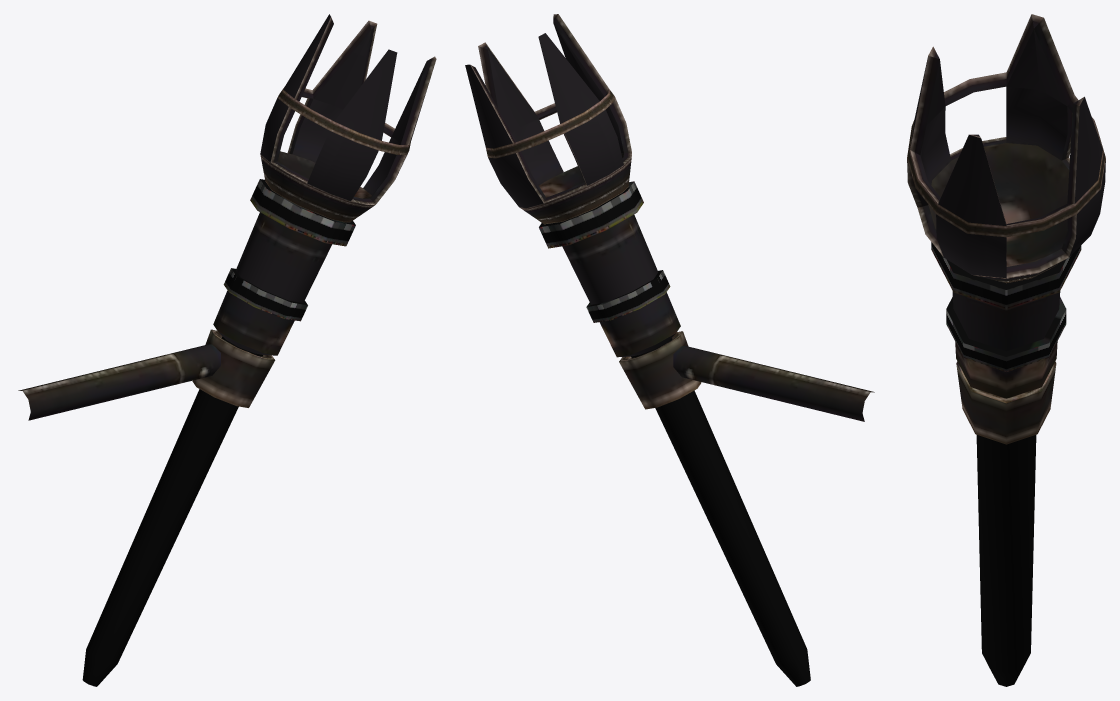
The model's file is o_mdl_env_propTorchWallB_light2-transformed.glb.
3 renders of one model, left to right at view 1: azimuth 30°, elevation 25°; view 2: azimuth 150°, elevation 25°; view 3: azimuth 270°, elevation 25°, orthographic. The views are drawn at different scales.
Parts seen in each view (by area): view 1: default; view 2: default; view 3: default.
Boxes of the visible parts, bbox=[...] form: default: bbox=[18, 14, 436, 686]; default: bbox=[465, 14, 874, 686]; default: bbox=[907, 14, 1105, 686].
Bounding box in the file's own units: 0.4687 × 0.6689 × 0.1438.
1 material, 1 textured.
